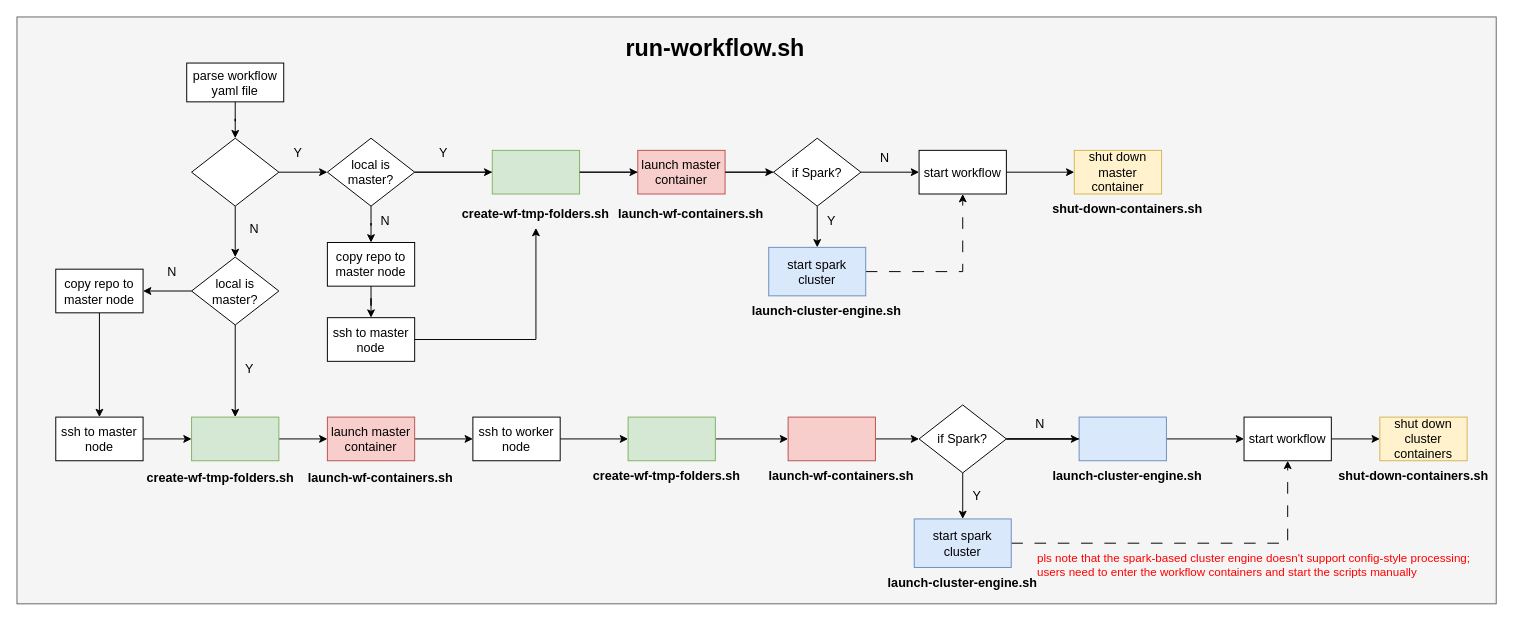
This 1513x621 diagram has some shape labels left out. Each missing label, with the centre of its shape:
"create tmp folders on worker" belongs at [671,438].
"create tmp foldes" belongs at [535,171].
"create tmp foldes on master" belongs at [235,438].
"launch worker container" belongs at [831,438].
"single- node?" belongs at [235,171].
"start ray cluster" belongs at [1122,438].
